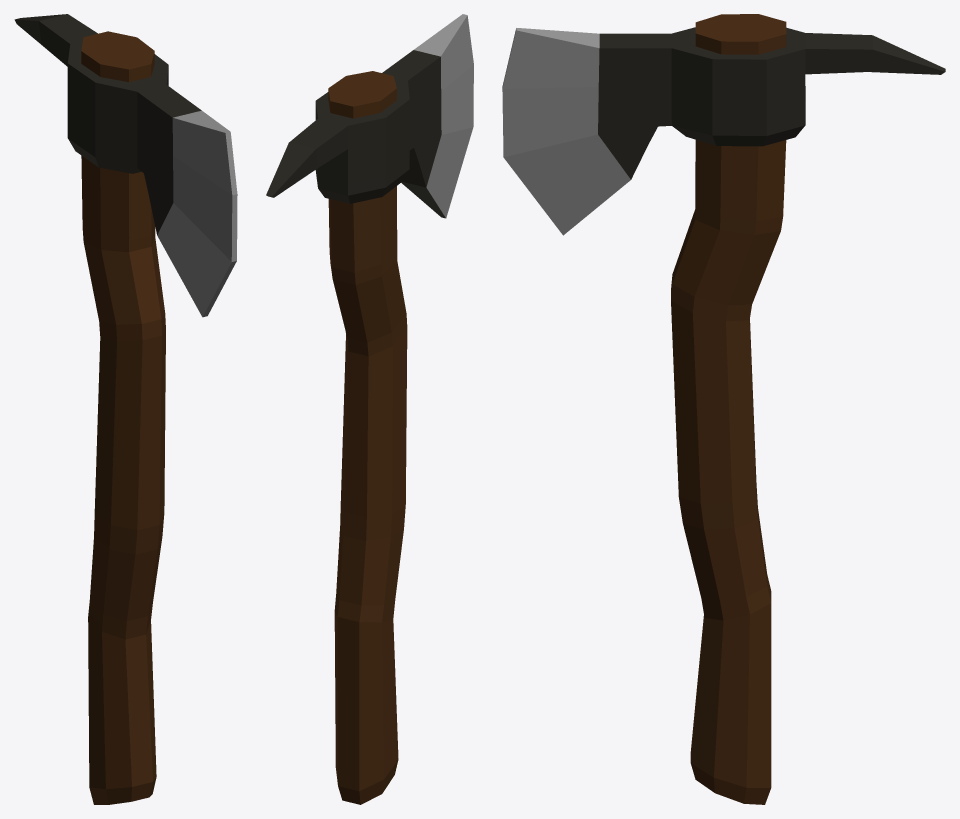
The model's file is Woodsman_Axe.fbx.
3 renders of one model, left to right at view 1: azimuth 30°, elevation 25°; view 2: azimuth 150°, elevation 25°; view 3: azimuth 270°, elevation 25°, orthographic. The views are drawn at different scales.
Visible parts, largest first — view 1: Machado; view 2: Machado; view 3: Machado.
Boxes of the visible parts, box(x1,y1,x2,y2) form: Machado: box(14, 14, 237, 804); Machado: box(266, 14, 473, 804); Machado: box(502, 14, 945, 804).
Size of the model in its own units: 0.121 by 1.16 by 0.6053.
